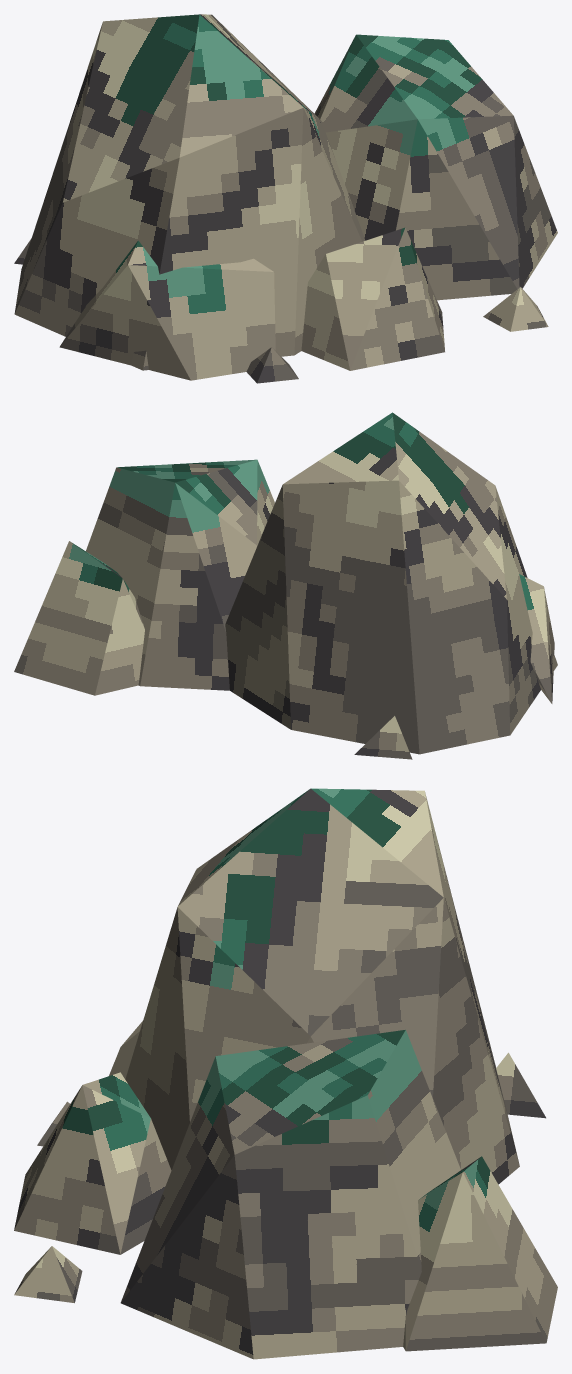
The model's file is rocks.glb.
The picture shows the model from 3 angles, top to bottom: view 1: azimuth 30°, elevation 25°; view 2: azimuth 150°, elevation 25°; view 3: azimuth 270°, elevation 25°; orthographic projection. The views are drawn at different scales.
Parts seen in each view (by area): view 1: rocks__big, rocks__mid, rocks__big_lump, rocks__small_front, rocks__chip1, rocks__chip3; view 2: rocks__big, rocks__mid, rocks__small_back, rocks__big_lump, rocks__chip2; view 3: rocks__big, rocks__mid, rocks__small_back, rocks__small_front, rocks__chip1, rocks__chip2.
Part boxes in pixels (box(x1,y1,x2,y2)): rocks__big: box(14, 14, 365, 370); rocks__mid: box(314, 34, 557, 300); rocks__big_lump: box(59, 240, 275, 380); rocks__small_front: box(301, 227, 444, 370); rocks__chip1: box(483, 287, 548, 331); rocks__chip3: box(246, 347, 298, 383); rocks__big: box(225, 412, 557, 754); rocks__mid: box(86, 459, 274, 690); rocks__small_back: box(14, 541, 144, 695); rocks__big_lump: box(519, 574, 554, 703); rocks__chip2: box(354, 716, 412, 759); rocks__big: box(125, 788, 519, 1184); rocks__mid: box(120, 1029, 460, 1359); rocks__small_back: box(403, 1156, 557, 1351); rocks__small_front: box(14, 1072, 171, 1254); rocks__chip1: box(14, 1246, 82, 1303); rocks__chip2: box(496, 1052, 545, 1118).
Size of the model in its own units: 2.17 by 1.2 by 1.63.
Materials: 5 (5 with a texture image).
